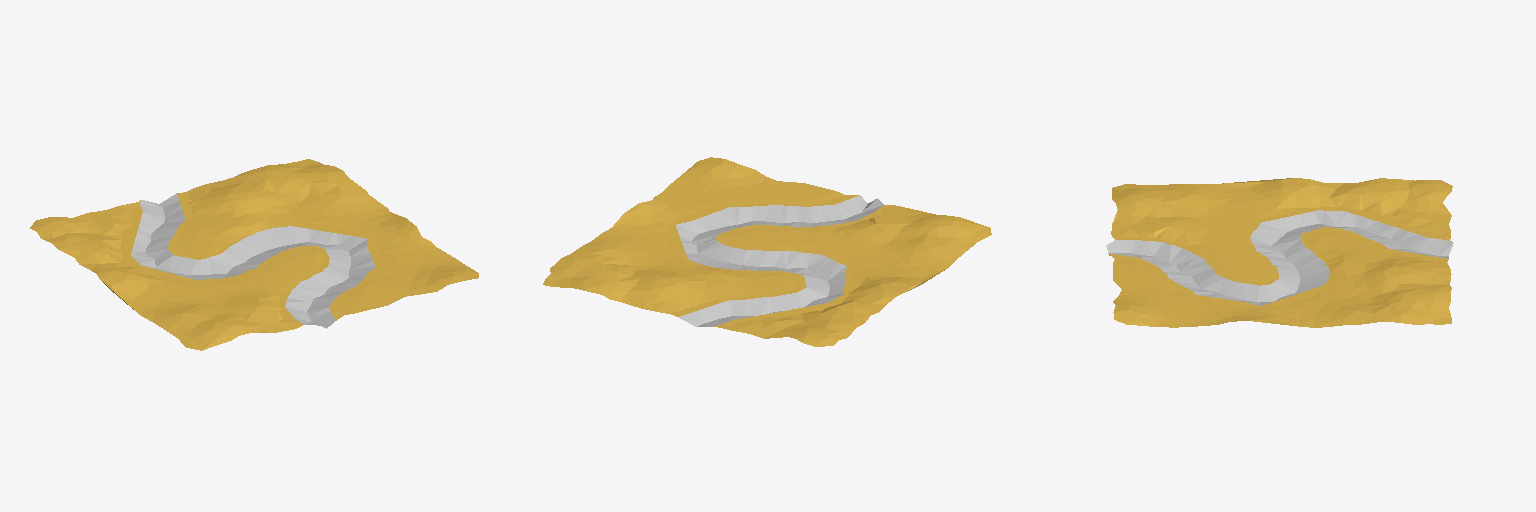
File: Level0UVmapped.obj
3 renders of one model, left to right at view 1: azimuth 30°, elevation 25°; view 2: azimuth 150°, elevation 25°; view 3: azimuth 270°, elevation 25°, orthographic.
Visible parts, largest first — view 1: Default; view 2: Default; view 3: Default.
Part boxes in pixels (x1,y1,x2,y2): Default: (30, 159, 478, 350); Default: (543, 157, 991, 346); Default: (1106, 178, 1453, 327).
Size of the model in its own units: 24.98 by 1.08 by 25.51.